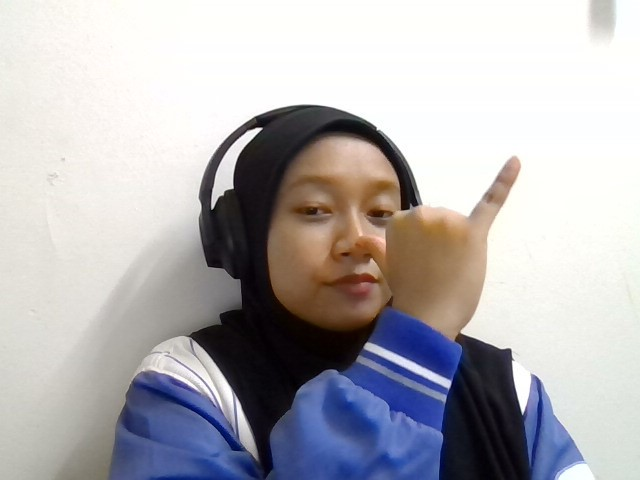BadakSumbu: (322, 155, 522, 309)
